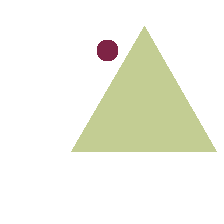circle: (97, 40, 117, 60)
triangle: (71, 26, 216, 151)
